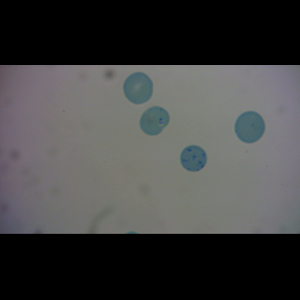aggregate reticulocyte: (180, 145, 207, 173)
erythrocyte: (122, 71, 154, 105)
punctate reticulocyte: (234, 110, 266, 144), (139, 105, 171, 136)
